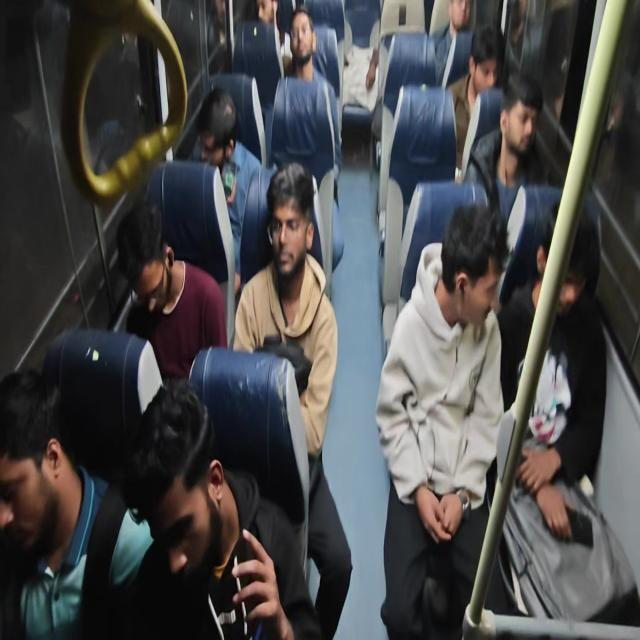person: (375, 202, 509, 638), (232, 161, 354, 638), (120, 376, 322, 639), (0, 367, 154, 639), (497, 200, 607, 542), (115, 198, 228, 382), (42, 326, 164, 482), (189, 86, 262, 288), (270, 8, 342, 195), (462, 70, 546, 218), (446, 22, 504, 179), (342, 0, 381, 111), (434, 0, 472, 85)
